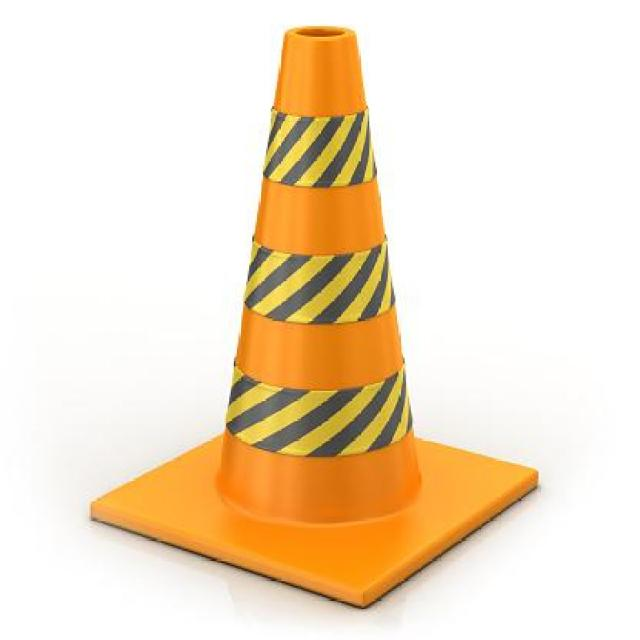Cone: (91, 22, 543, 616)
